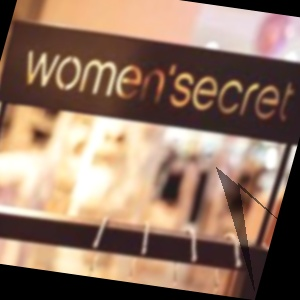women_secret: (290, 47, 300, 104)
